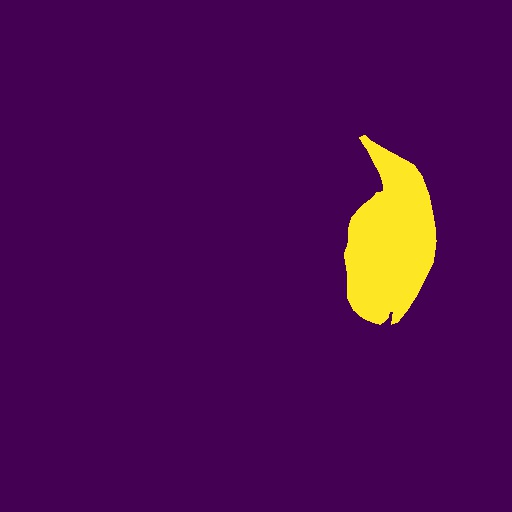Menigiomia_tumour: (344, 135, 437, 325)
